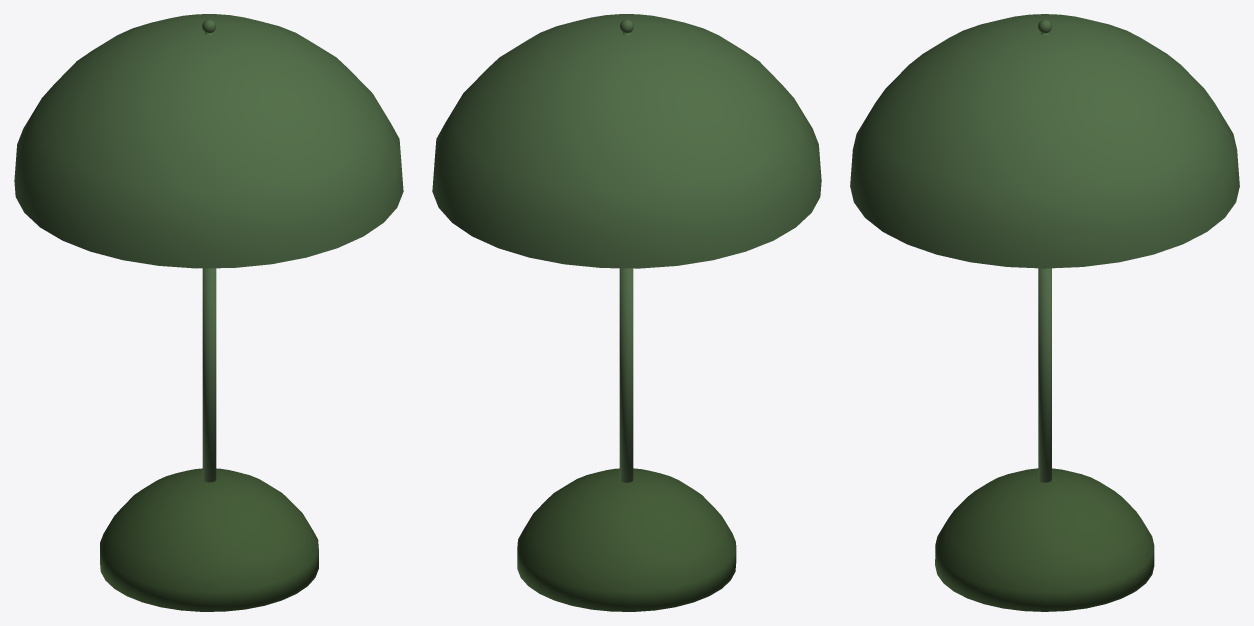
File: lamp.glb
The picture shows the model from 3 angles, left to right: view 1: azimuth 30°, elevation 25°; view 2: azimuth 150°, elevation 25°; view 3: azimuth 270°, elevation 25°; orthographic projection.
Parts seen in each view (by area): view 1: Sphere; view 2: Sphere; view 3: Sphere.
Part boxes in pixels (<box>): Sphere: <box>14,14,403,611</box>; Sphere: <box>432,14,821,611</box>; Sphere: <box>850,14,1239,611</box>.
Bounding box in the file's own units: 1.87 × 2.91 × 1.87.
